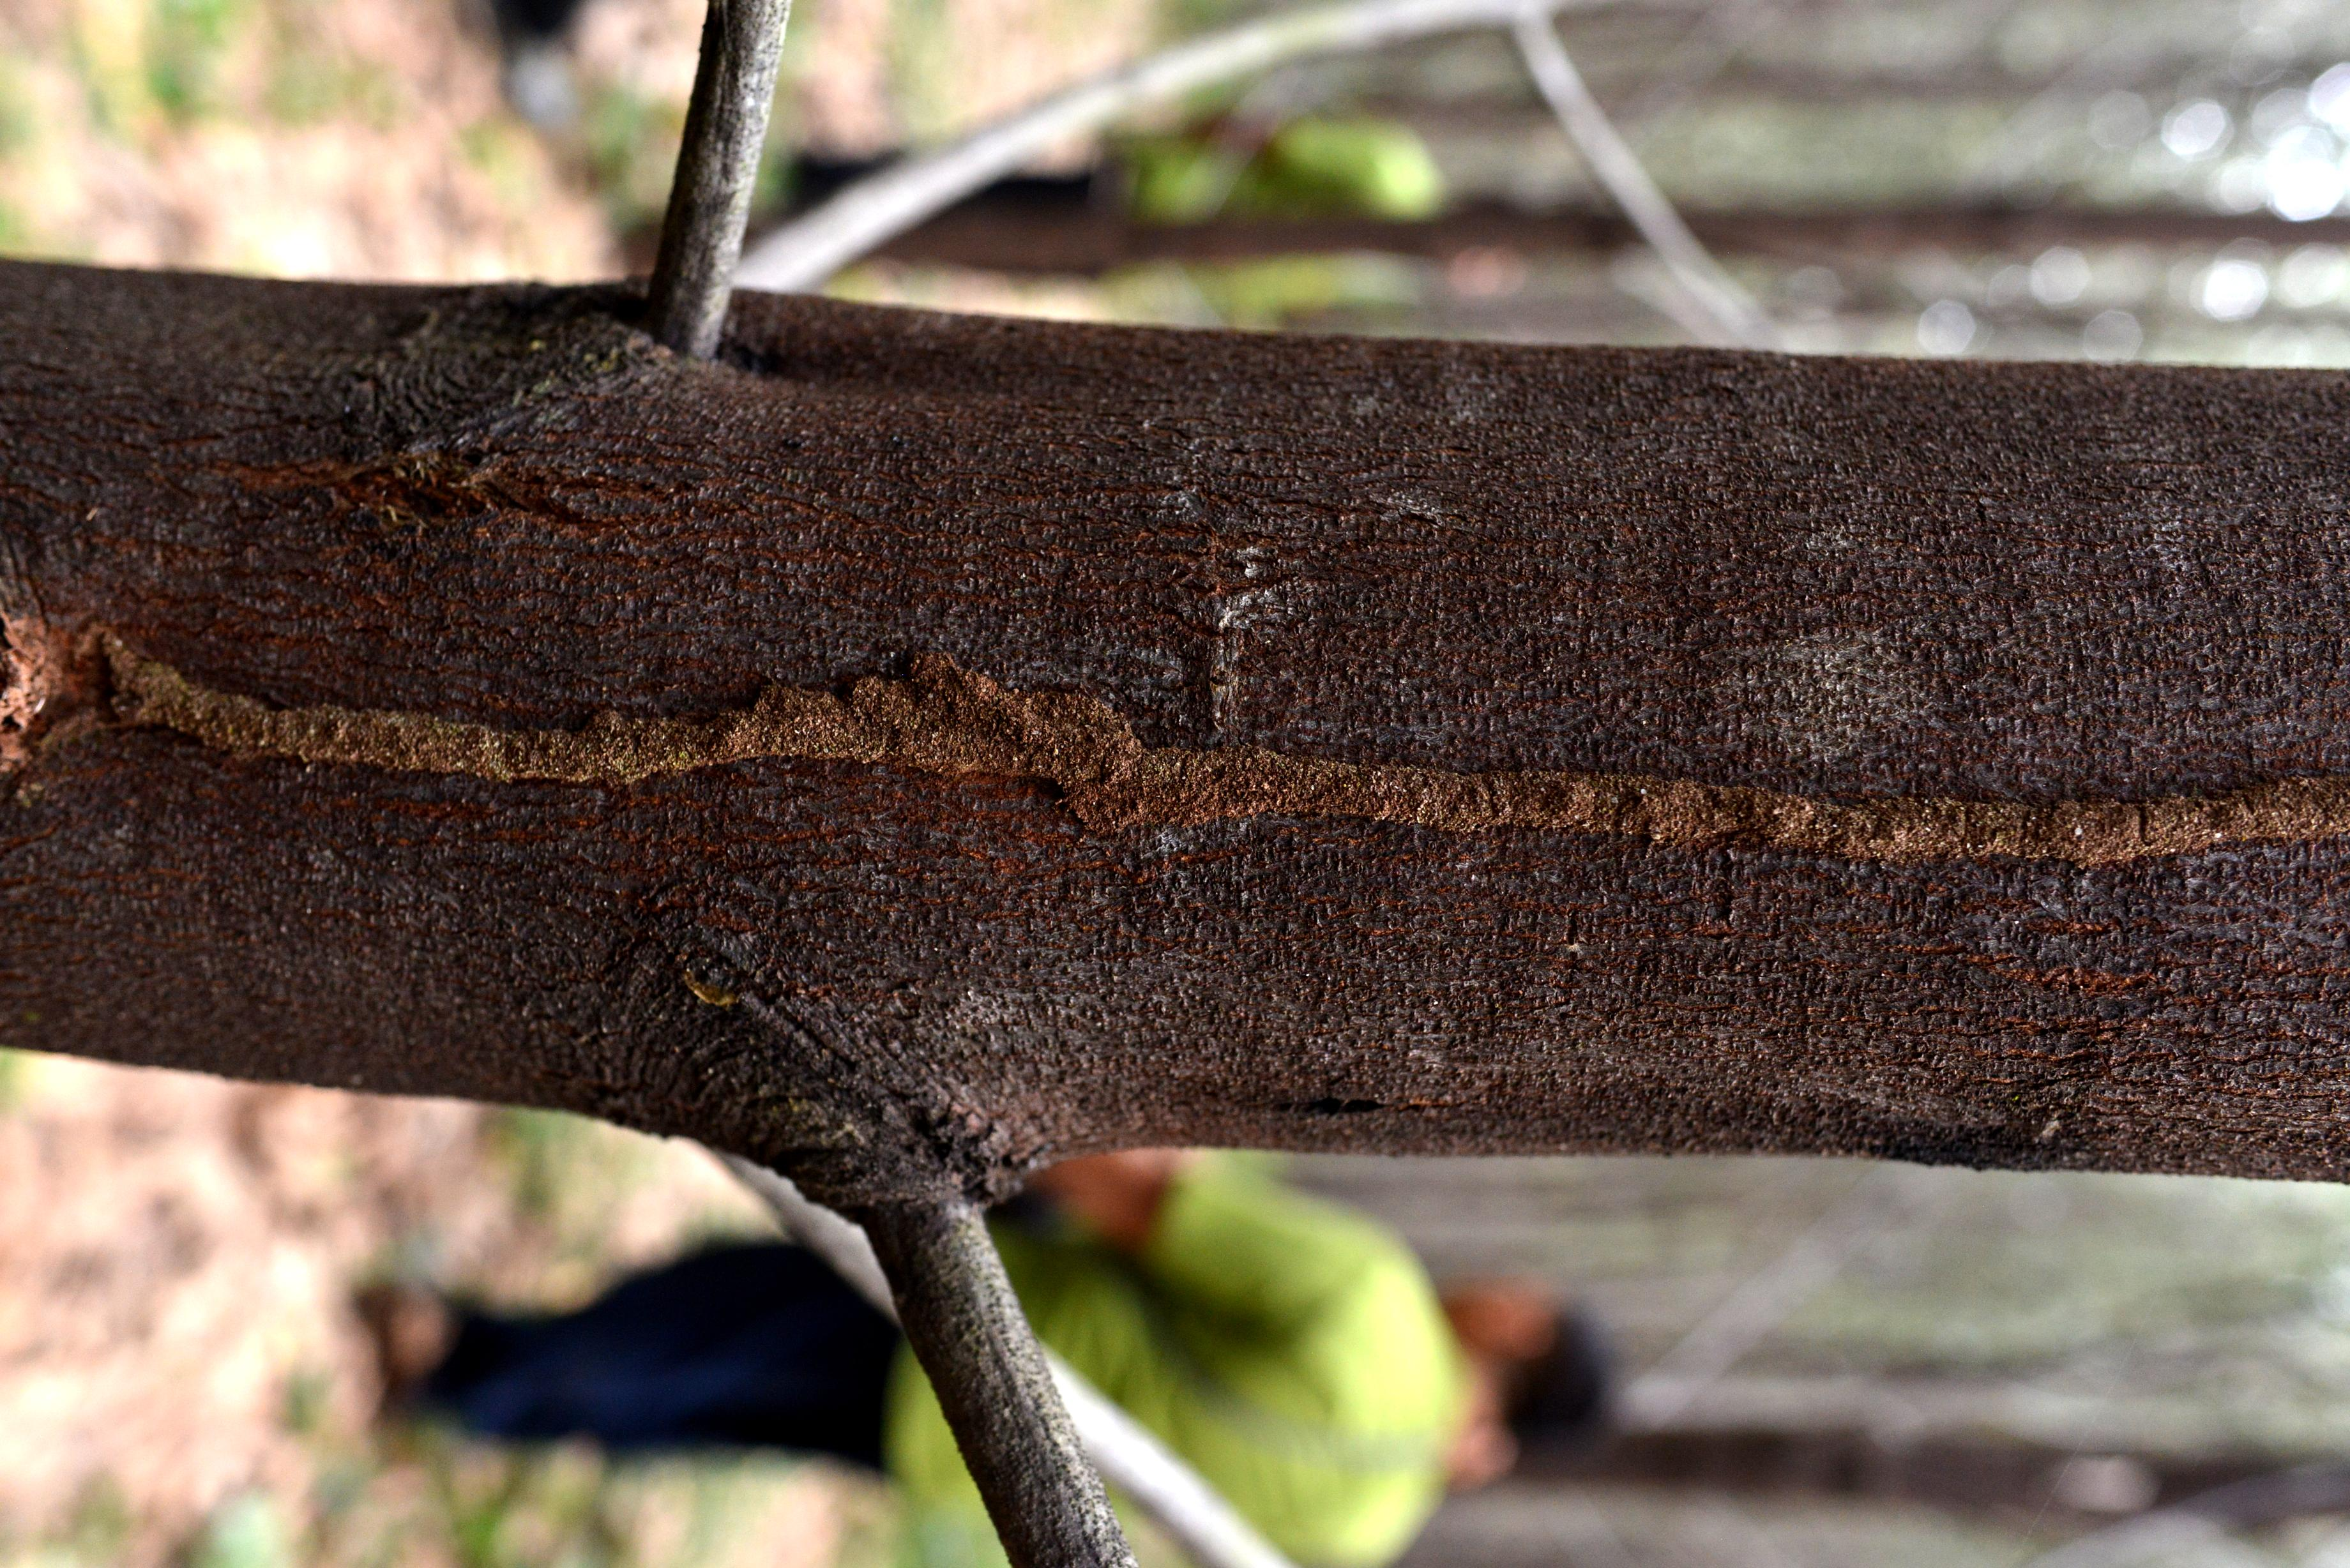Termite - Nest: (65, 584, 2350, 887)
